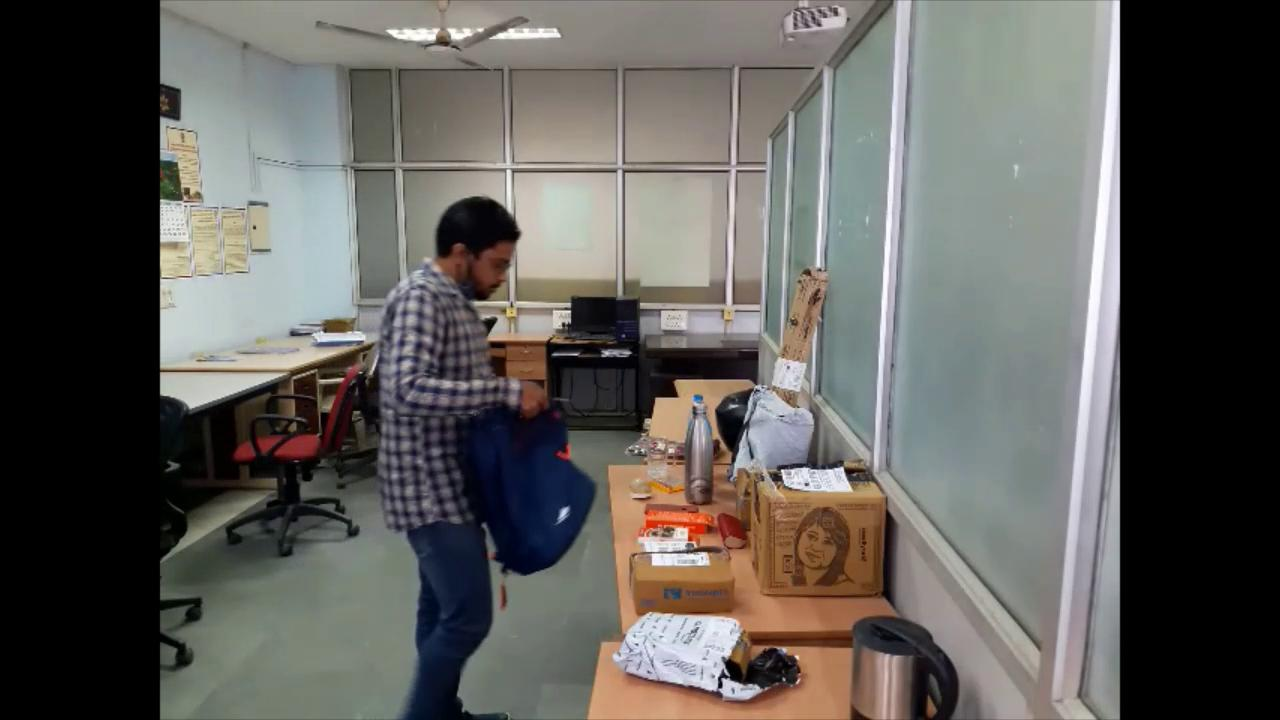shoplifting: (362, 182, 602, 720)
